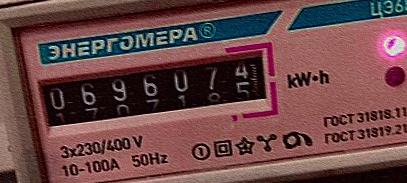0: (46, 84, 67, 111), (170, 66, 189, 93)
4: (232, 58, 248, 80)
5: (234, 79, 251, 100)
6: (76, 79, 97, 106), (140, 69, 159, 98)
7: (201, 63, 220, 91)
9: (108, 75, 128, 103)
screen: (29, 38, 283, 144)
